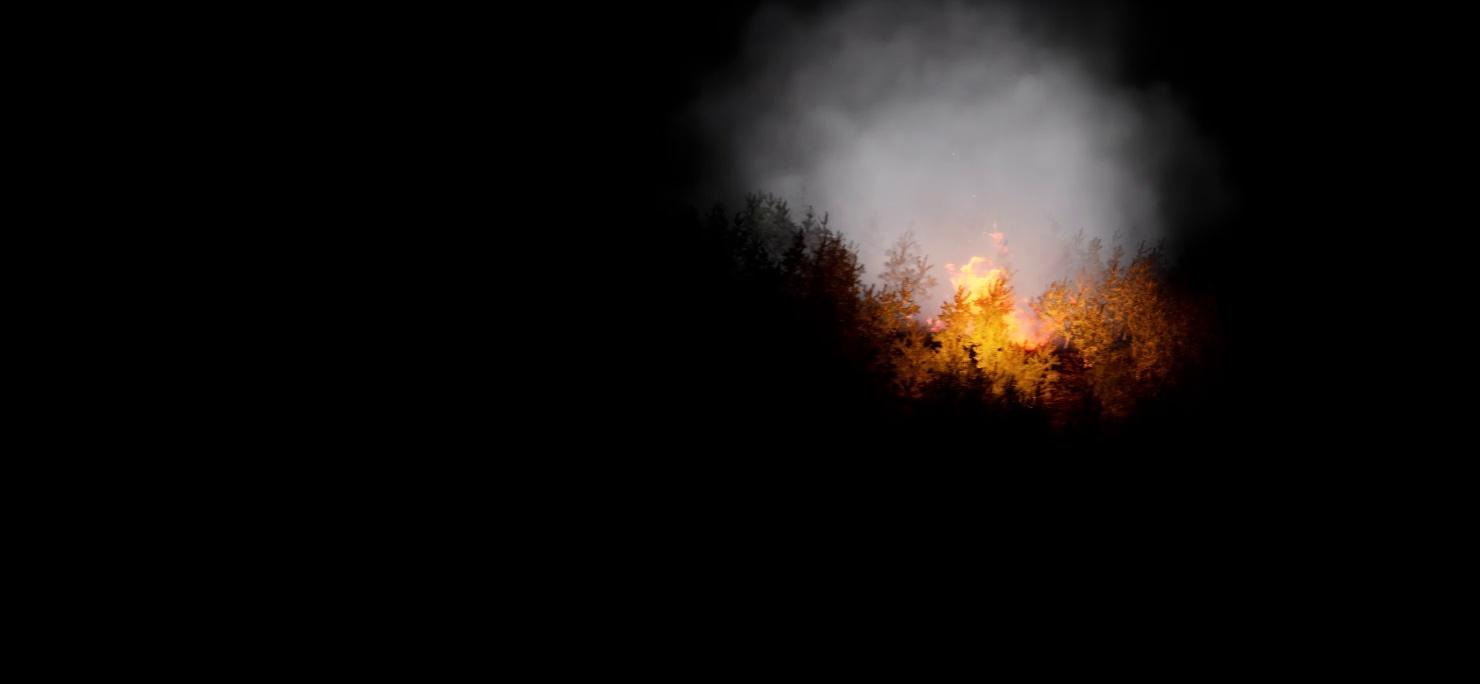fire: (937, 247, 1028, 347)
smoke: (707, 0, 1192, 338)
